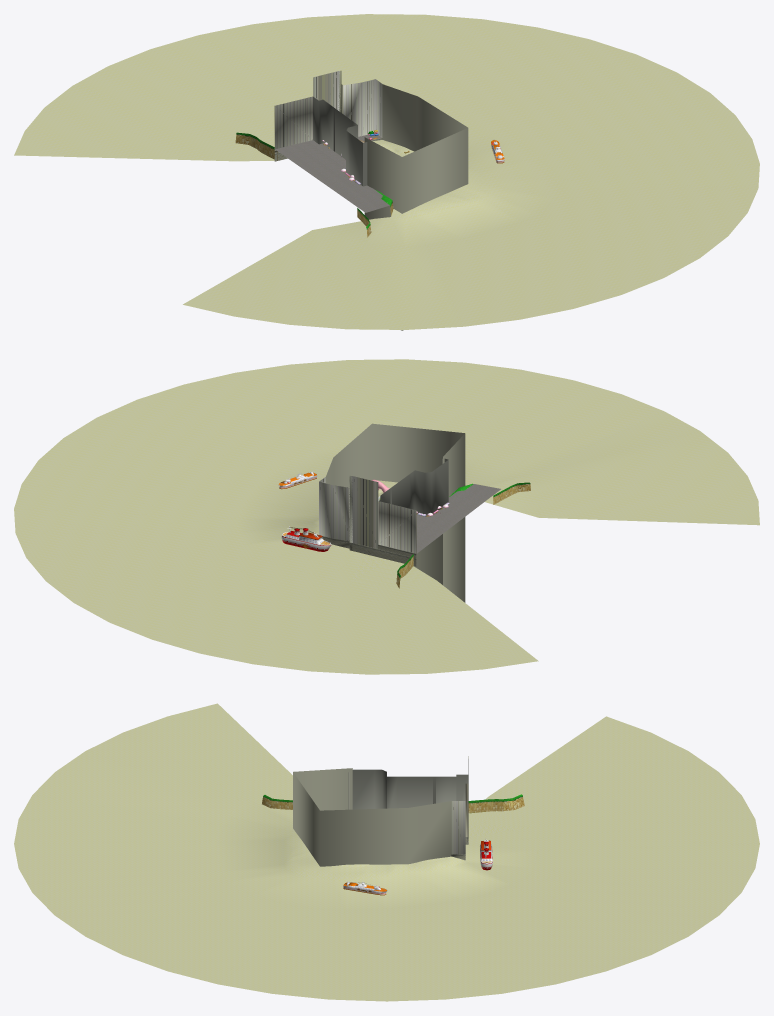
Rendered from peachBeach_hitbox.glb.
3 views of the same model, one above another, from view 1: azimuth 30°, elevation 25°; view 2: azimuth 150°, elevation 25°; view 3: azimuth 270°, elevation 25° (orthographic).
Visible parts, largest first — view 1: polygon308, polygon23, polygon165, polygon207; view 2: polygon308, polygon23, polygon165, polygon207, polygon46; view 3: polygon308, polygon23, polygon207.
Boxes of the visible parts, bbox=[...] form: polygon308: bbox=[14, 14, 759, 329]; polygon23: bbox=[274, 70, 468, 330]; polygon165: bbox=[275, 134, 389, 212]; polygon207: bbox=[235, 132, 393, 237]; polygon308: bbox=[14, 359, 759, 674]; polygon23: bbox=[281, 423, 465, 602]; polygon165: bbox=[416, 484, 500, 553]; polygon207: bbox=[378, 482, 530, 588]; polygon46: bbox=[278, 471, 331, 544]; polygon308: bbox=[14, 703, 759, 1001]; polygon23: bbox=[293, 756, 492, 870]; polygon207: bbox=[262, 794, 524, 813].
Size of the model in its own units: 2941 by 868 by 3110.
12 materials, 12 textured.
